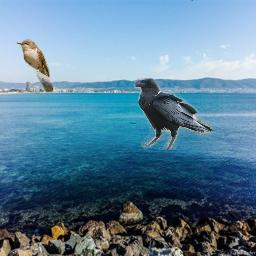Crow: (133, 78, 213, 150)
Cuckoo: (16, 39, 53, 93)
